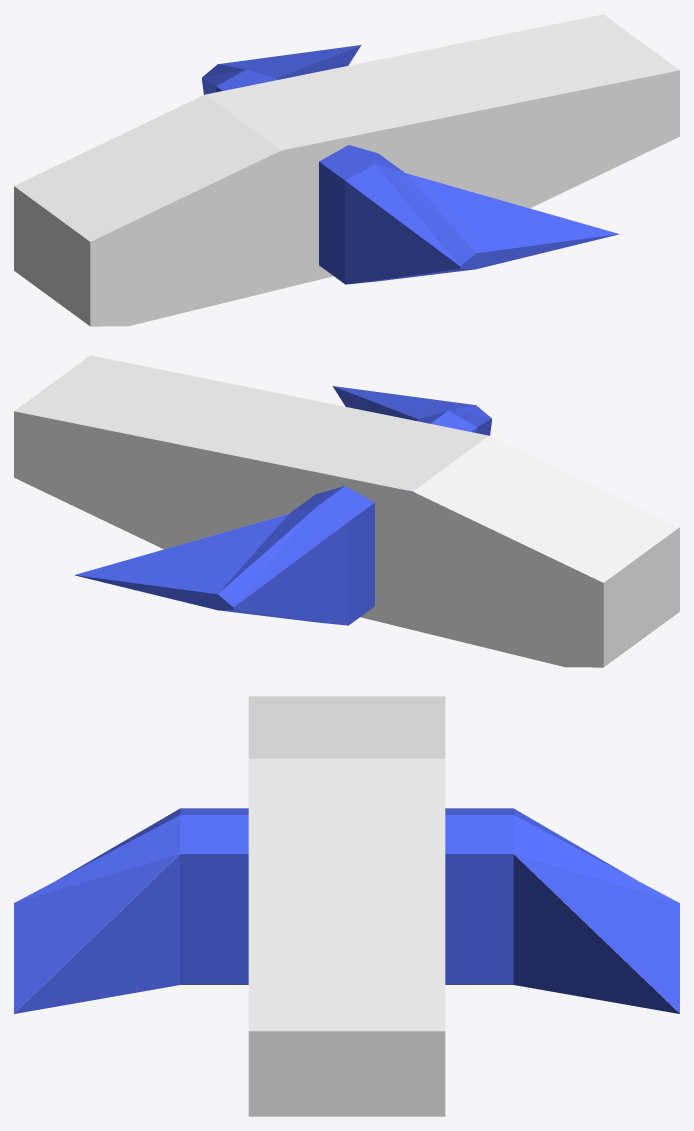
File: player.obj
3 views of the same model, one above another, from view 1: azimuth 30°, elevation 25°; view 2: azimuth 150°, elevation 25°; view 3: azimuth 270°, elevation 25° (orthographic). The views are drawn at different scales.
Visible parts, largest first — view 1: 立方体.001; view 2: 立方体.001; view 3: 立方体.001.
Part boxes in pixels (x1,y1,x2,y2): 立方体.001: (14,14,679,326); 立方体.001: (14,355,679,667); 立方体.001: (14,696,679,1116).
Size of the model in its own units: 8.91 by 2 by 6.76.
Materials: 1 (1 with a texture image).
